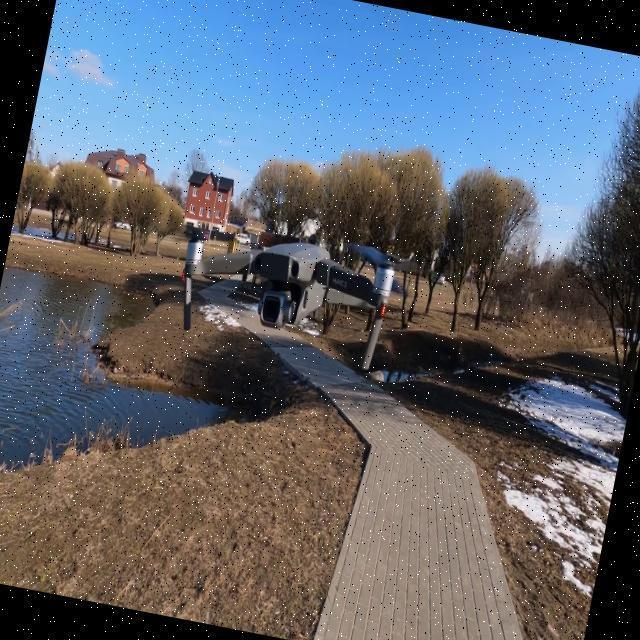Drons: (152, 200, 422, 390)
